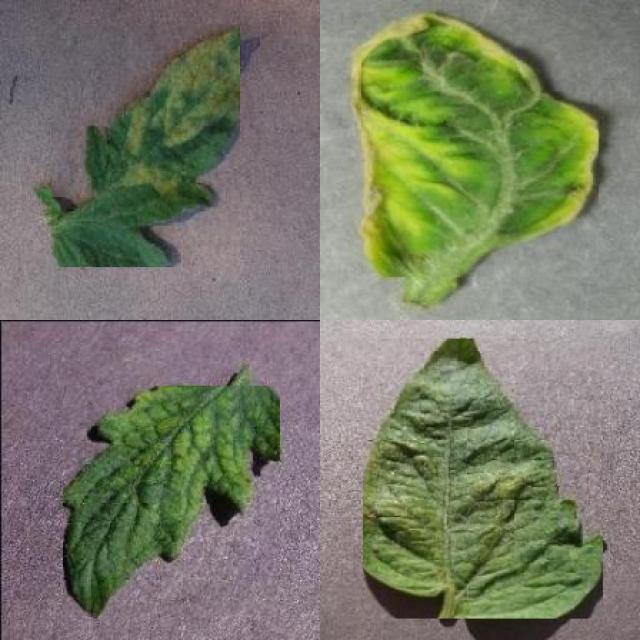Leaf Mold: (52, 25, 241, 268)
Mosaic Virus: (63, 386, 280, 618)
Spider Mites: (363, 340, 603, 620)
Yellow Leaf Curl Virus: (354, 15, 599, 278)
